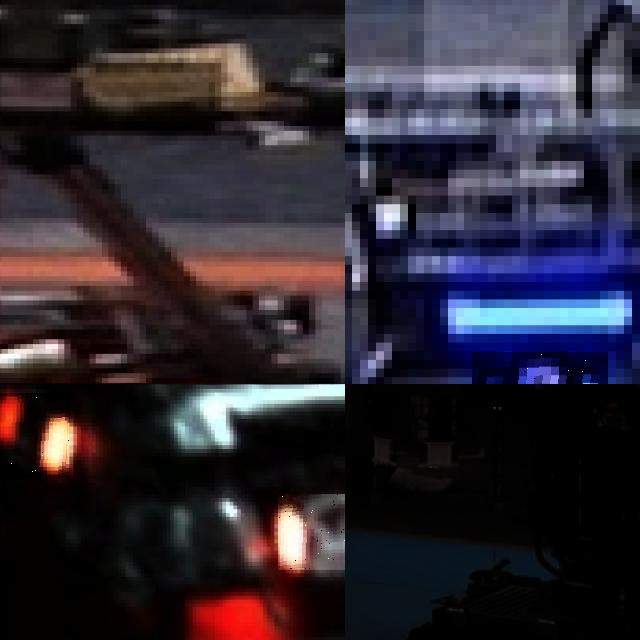B2: (472, 351, 608, 384)
Rs: (0, 392, 69, 479), (278, 494, 345, 569)
